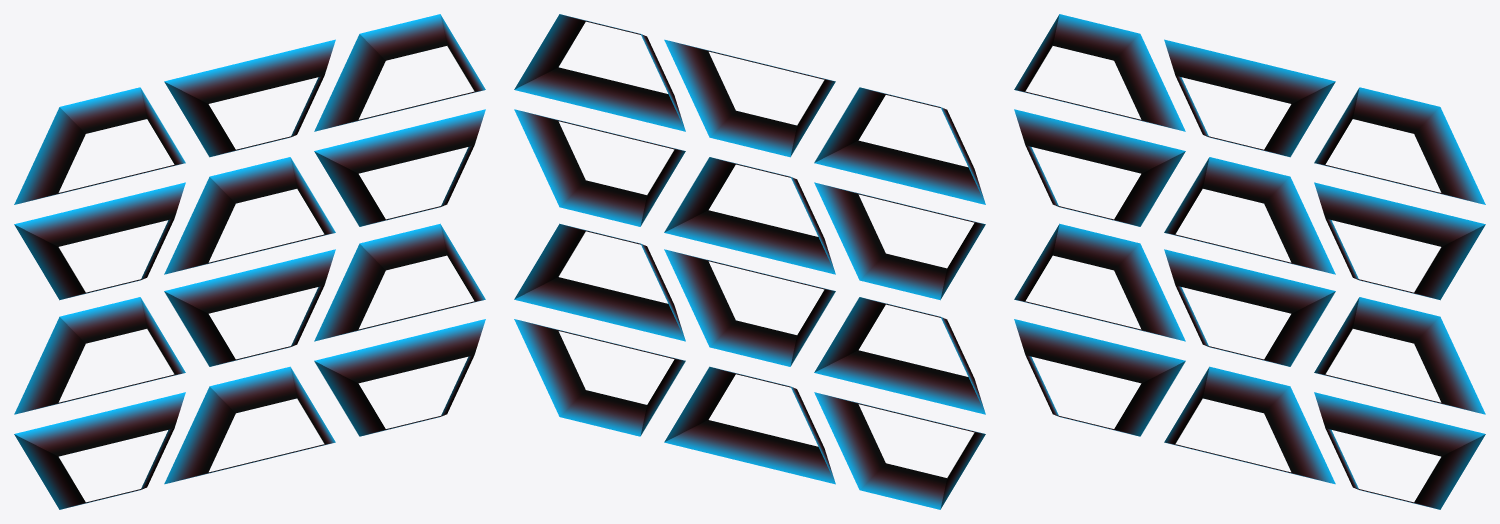
File: fenrir_engine_jets_4.FBX
3 views of the same model, side by side, from view 1: azimuth 30°, elevation 25°; view 2: azimuth 150°, elevation 25°; view 3: azimuth 330°, elevation 25° (orthographic).
Parts seen in each view (by area): view 1: fenrir_engine_jets_4; view 2: fenrir_engine_jets_4; view 3: fenrir_engine_jets_4.
Boxes of the visible parts, bbox=[...] form: fenrir_engine_jets_4: bbox=[14, 14, 485, 509]; fenrir_engine_jets_4: bbox=[514, 14, 985, 509]; fenrir_engine_jets_4: bbox=[1014, 14, 1485, 509].
Bounding box in the file's own units: 133 × 109 × 8.08.
Materials: 1 (1 with a texture image).
